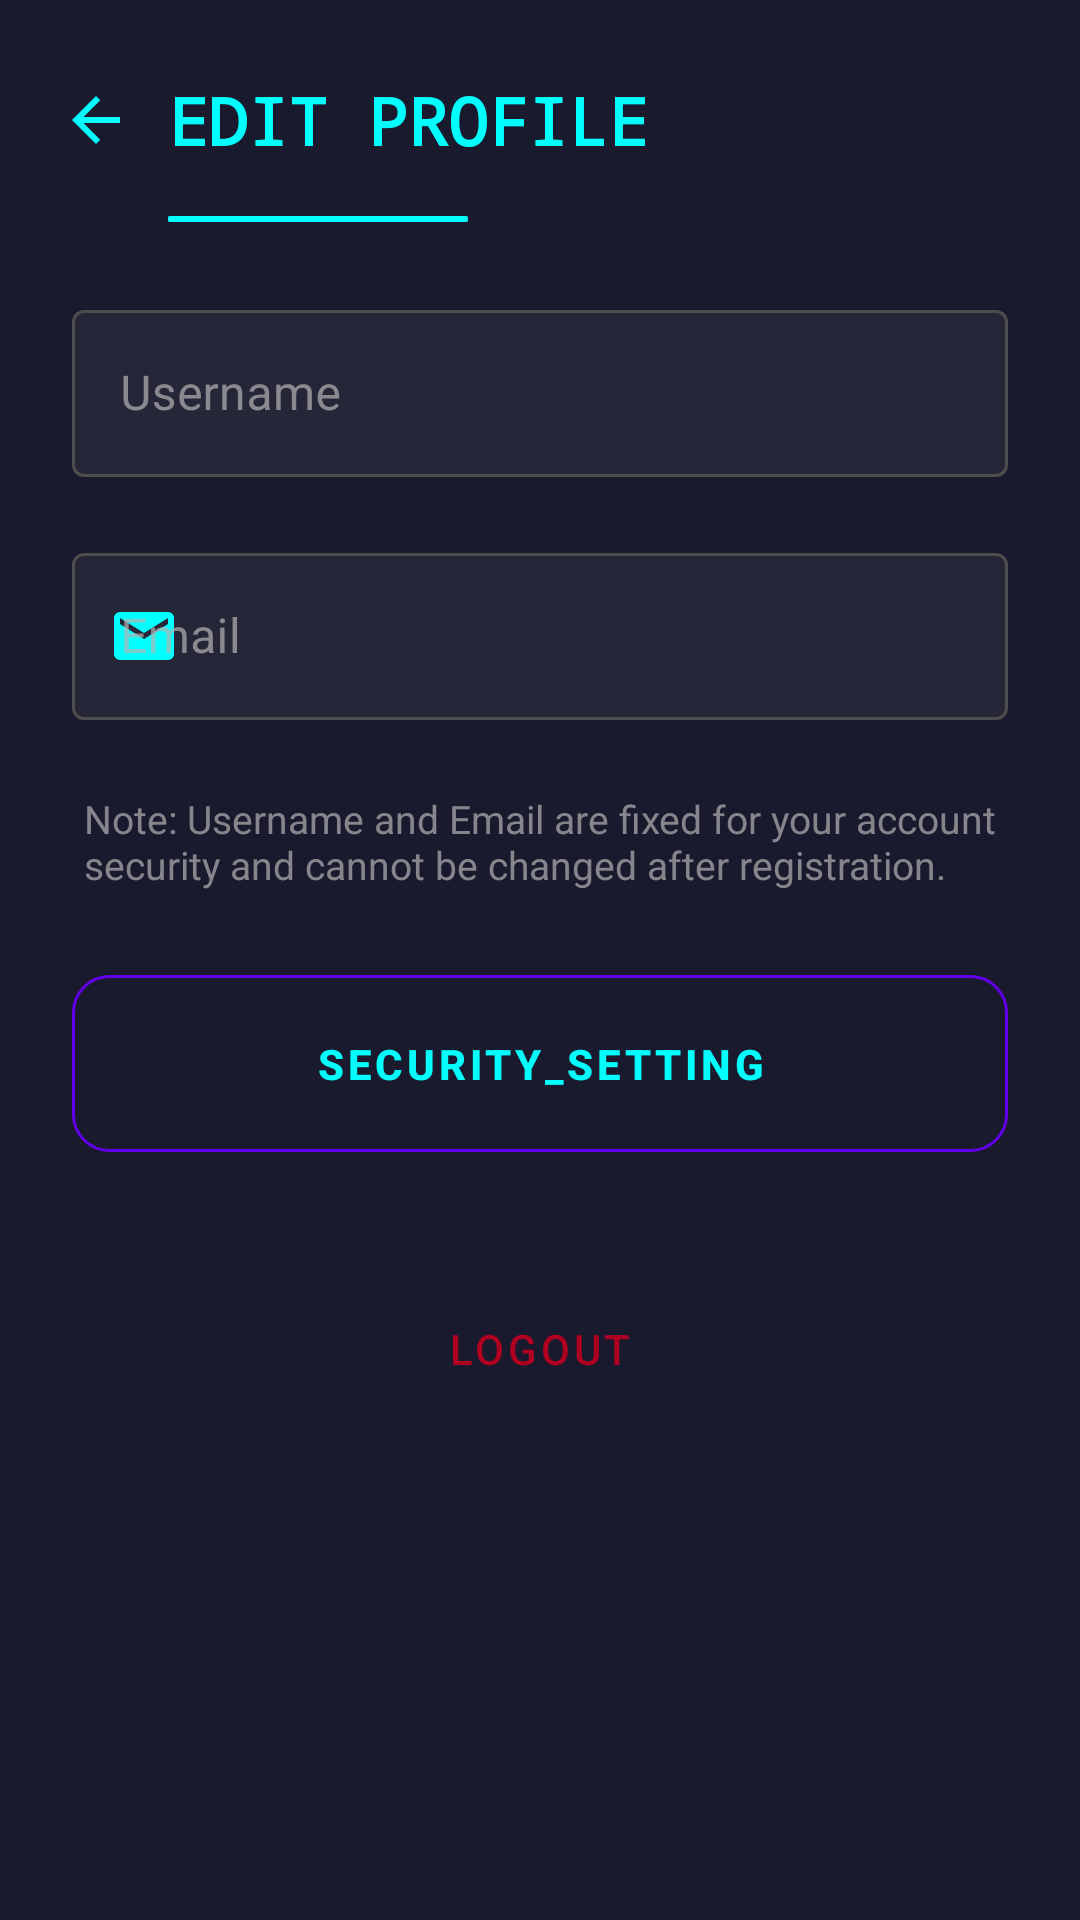

Icons on this 1080*1920 Android screen, each with the point to tap as point (x, y):
Back: point (96, 120)
